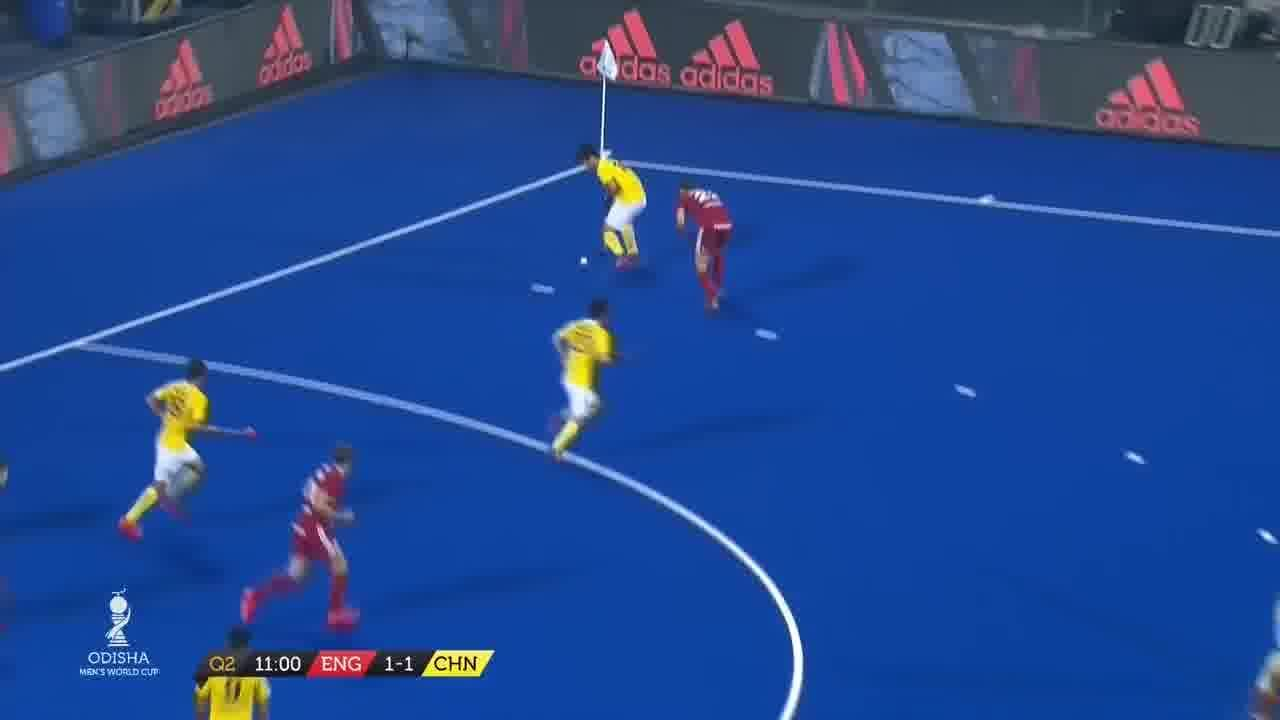ball: (580, 255, 588, 265)
